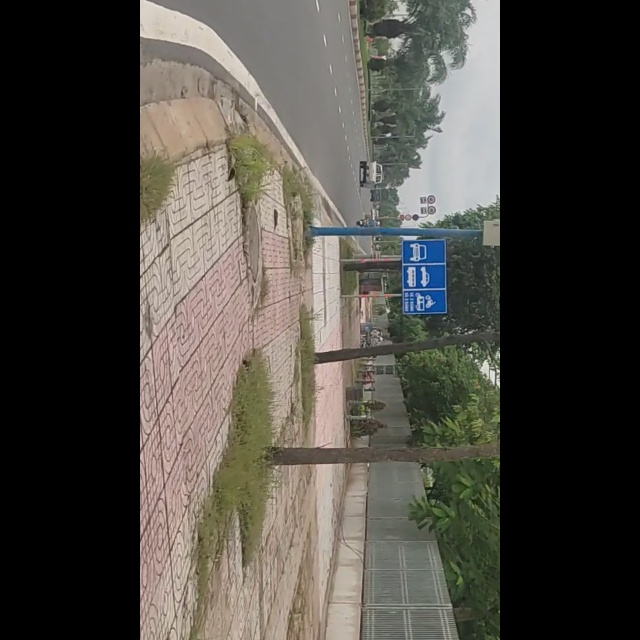bien_cam: (459, 240, 553, 317)
